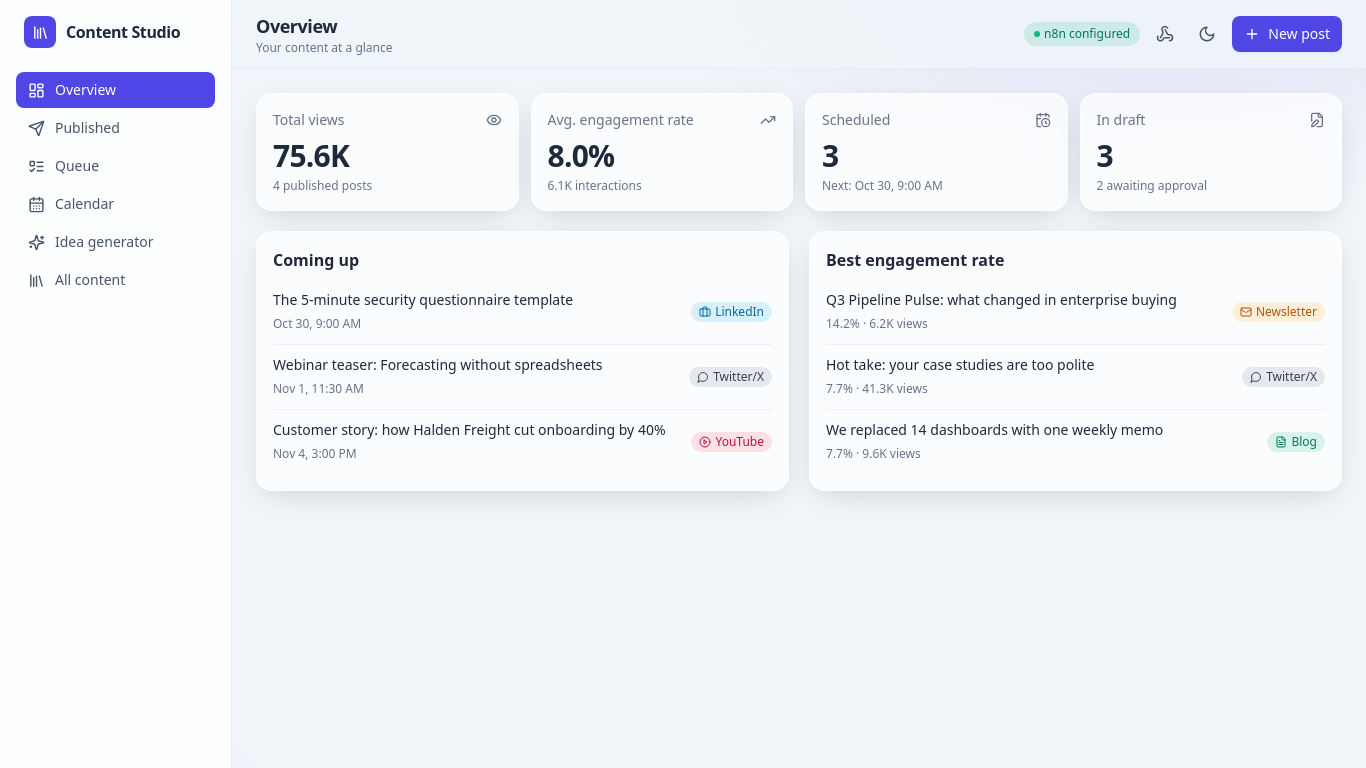
Test: App navigation › creates a post from the editor and toggles the theme
Click the button named "Toggle theme" at [1207, 34], box 1190,17 -> 1224,51
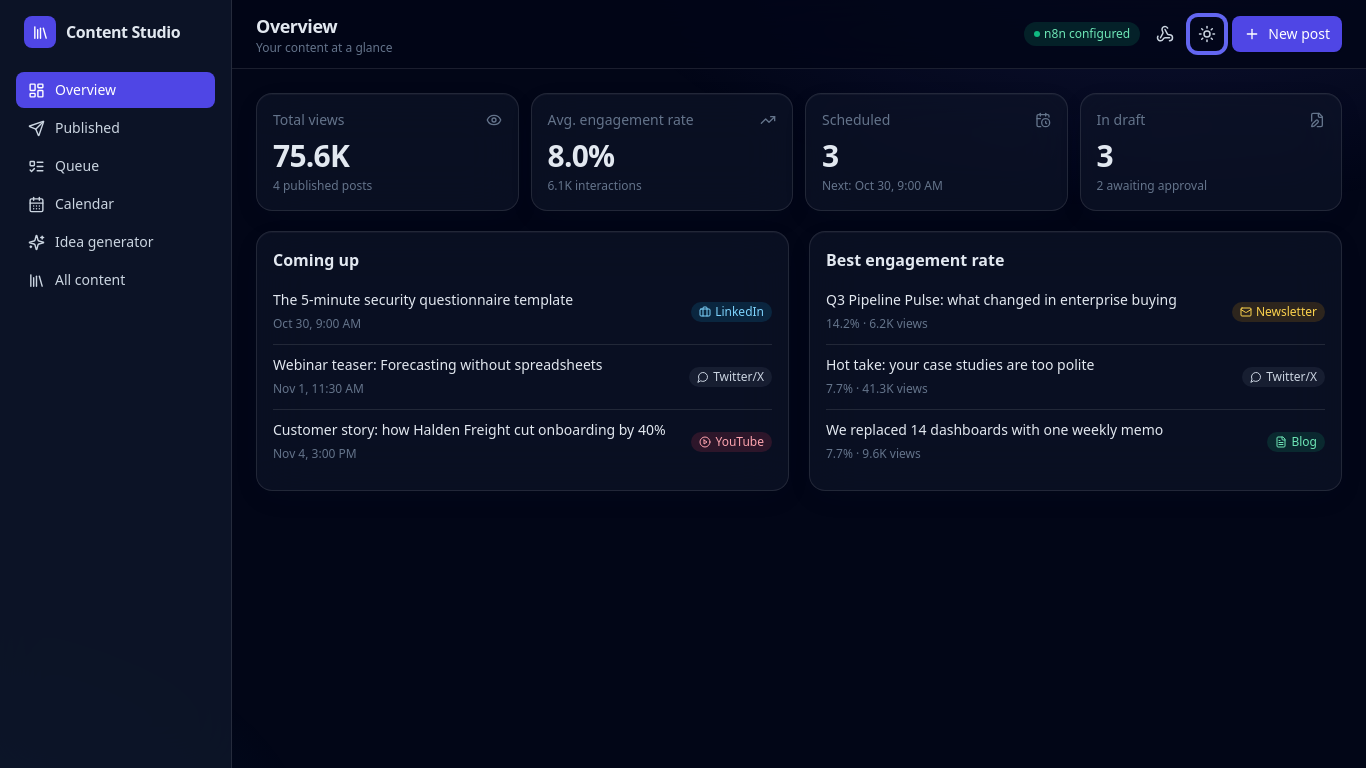
Click the button "New post" at [1287, 34], box 1232,16 -> 1342,52
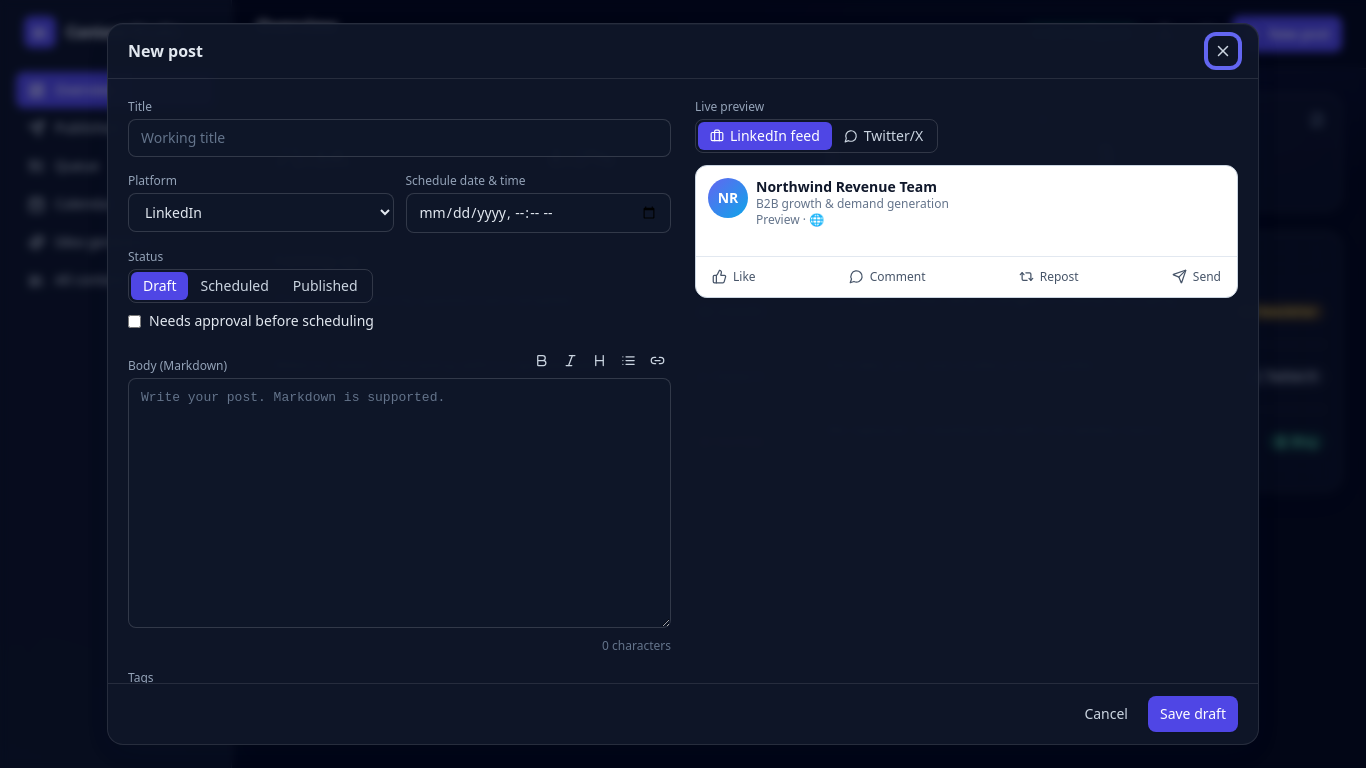
Type "Fresh launch note" into the field labelled "Title" at [400, 138], box 128,119 -> 671,157
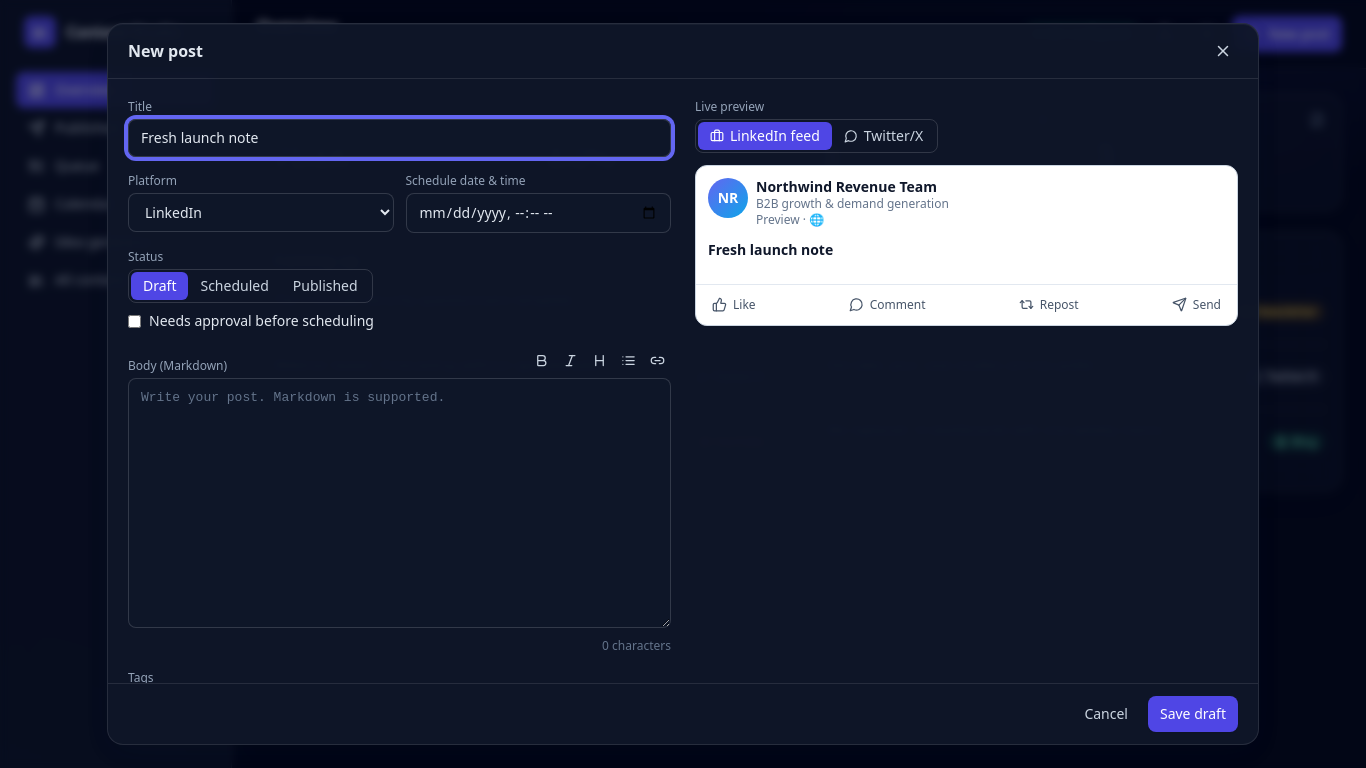
Click the button "Save draft" at [1193, 714], box 1148,696 -> 1238,732
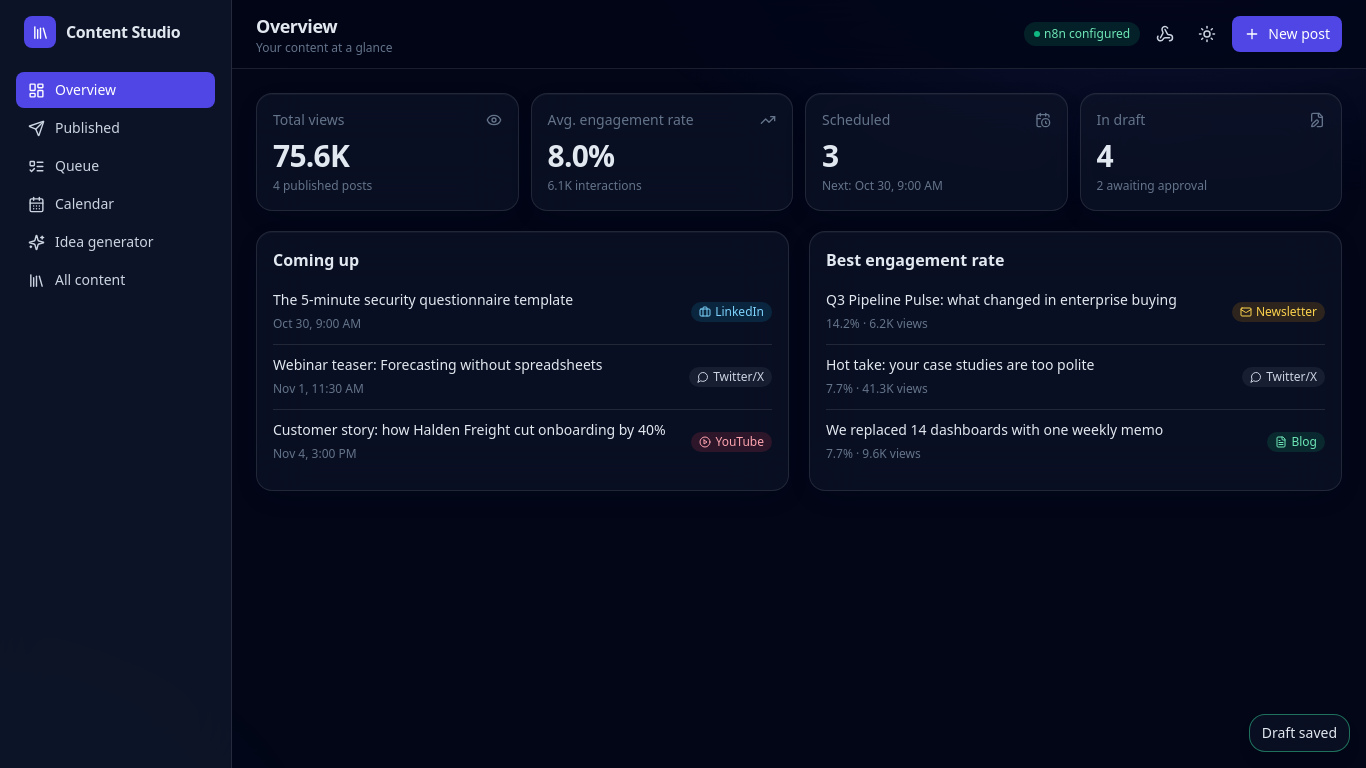
expect the text "Draft saved" is shown: met, box 1262,723 -> 1337,743
Click the button "All content" at [116, 280], box 16,262 -> 215,298
(page scrolled)
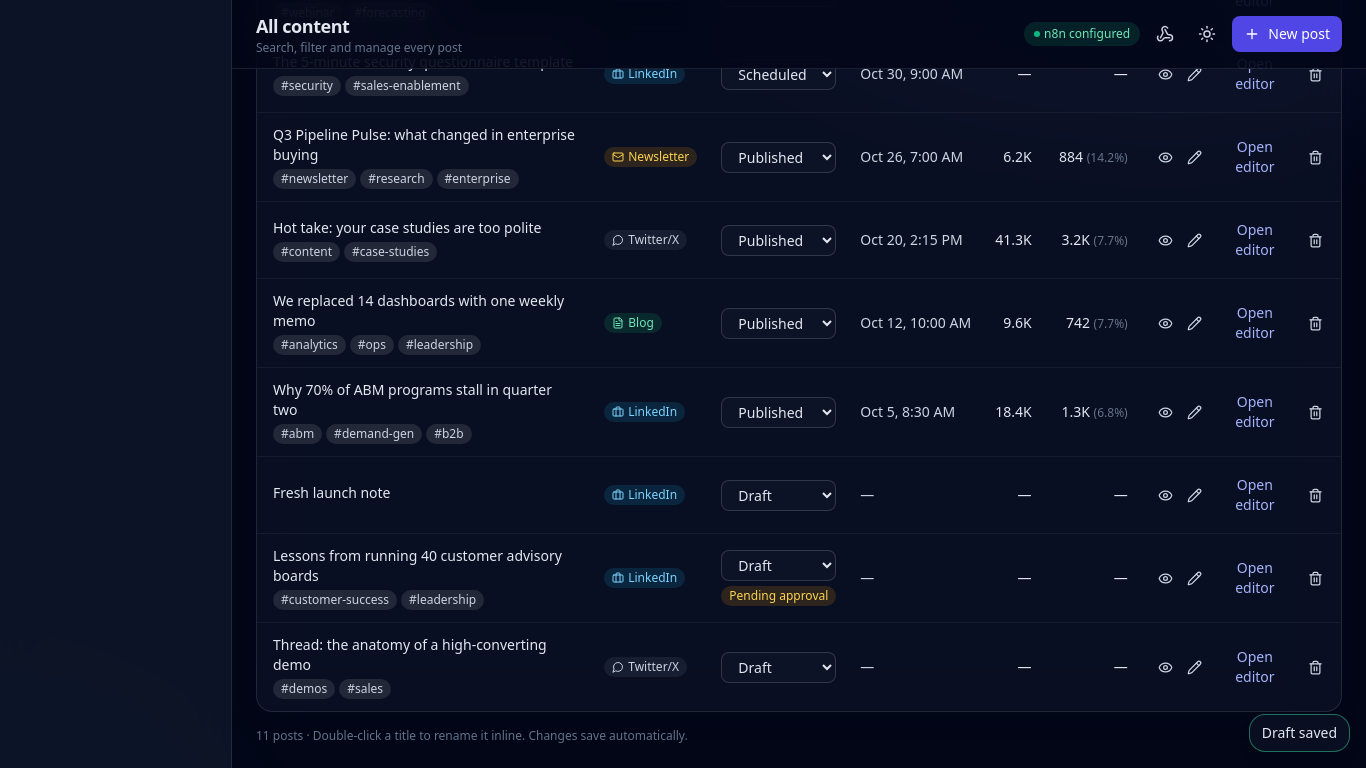
expect the button "Fresh launch note" is shown: met, box 273,483 -> 390,503
